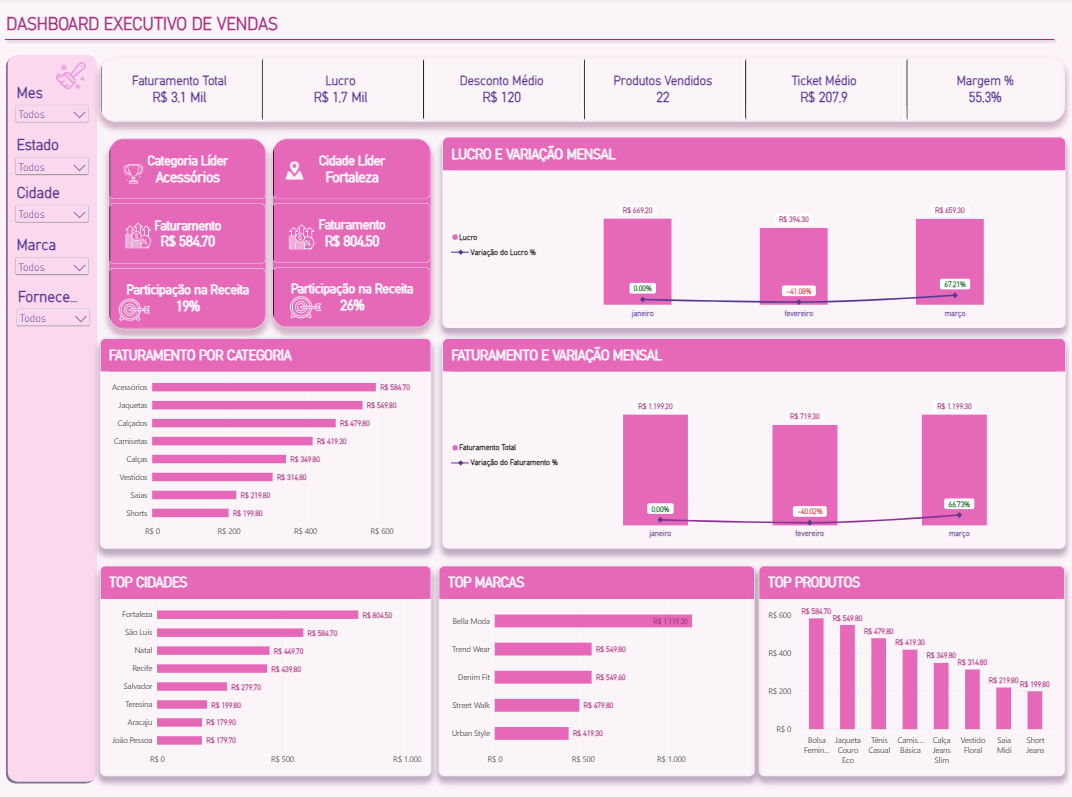

What the dashboard file says about the page in this screenshot:
{"tool":"powerbi","page":{"name":"REPORT DIRT","canvas":[2000,1500],"ordinal":0},"visuals":[{"type":"shape","box":[9.3,102,176.3,1359],"z":0},{"type":"clusteredColumnChart","title":"TOP PRODUTOS","fields":{"Category":["Produtos.Produto"],"Y":["Vendas.Faturamento Total"]},"box":[1408,1056,568,390],"z":0,"group":"g1"},{"type":"textbox","box":[10.9,30.8,1874.8,48.9],"z":1000},{"type":"cardVisual","fields":{"Data":["Vendas.Categoria Líder","Vendas.Categoria Líder Faturamento","Vendas.Categoria Líder % Participação"]},"box":[202.1,261.7,292,354],"z":1000,"group":"g2"},{"type":"shape","box":[0,47.5,1965,65],"z":2000},{"type":"slicer","fields":{"Values":["Vendas.Mes"]},"box":[22.2,159.3,146.7,118.3],"z":3000},{"type":"cardVisual","fields":{"Data":["Vendas.Cidade Líder","Vendas.Cidade Líder Faturamento","Vendas.Cidade Líder % Participação"]},"box":[506.4,261.7,294,352],"z":3000,"group":"g3"},{"type":"cardVisual","fields":{"Data":["Vendas.Receita Líquida Total","Vendas.Lucro","Vendas.Desconto Aplicado","Vendas.Quant. de Produtos Vendidos","Vendas.Ticket Médio","Vendas.Margem %"]},"box":[186,112,1790,120],"z":4000},{"type":"lineClusteredColumnComboChart","title":"LUCRO E VARIAÇÃO MENSAL","fields":{"Category":["Calendario.Mes"],"Y":["Vendas.Lucro"],"Y2":["Vendas.Variação do Lucro %"]},"box":[820,260,1156,354],"z":5000},{"type":"lineClusteredColumnComboChart","title":"FATURAMENTO E VARIAÇÃO MENSAL","fields":{"Category":["Calendario.Mes"],"Y":["Vendas.Faturamento Total"],"Y2":["Vendas.Variação Faturamento %"]},"box":[820,632,1156,390],"z":6000},{"type":"image","box":[95,117.5,73.3,55],"z":7000},{"type":"slicer","fields":{"Values":["Clientes.Estado"]},"box":[22.2,257.4,146.7,118.3],"z":8000},{"type":"slicer","fields":{"Values":["Clientes.Cidade"]},"box":[22.2,344.4,146.7,118.3],"z":9000},{"type":"clusteredBarChart","title":"FATURAMENTO POR CATEGORIA","fields":{"Category":["Produtos.Categoria"],"Y":["Vendas.Faturamento Total"]},"box":[186,632,614,390],"z":10000},{"type":"barChart","title":"TOP MARCAS","fields":{"Category":["Produtos.Marca"],"Y":["Vendas.Faturamento Total"]},"box":[814,1056,586,390],"z":11000},{"type":"clusteredBarChart","title":"TOP CIDADES","fields":{"Category":["Clientes.Cidade"],"Y":["Vendas.Faturamento Total"]},"box":[186,1056,614,390],"z":12000},{"type":"group","id":"g1","title":"Grupo 1","box":[1408,1056,568,390],"z":13000},{"type":"group","id":"g2","title":"Grupo 2","box":[202.1,261.7,292,354],"z":14000},{"type":"group","id":"g3","title":"Grupo 3","box":[506.4,261.7,294,352],"z":15000},{"type":"slicer","fields":{"Values":["Produtos.Marca"]},"box":[24,444,146.7,118.3],"z":16000},{"type":"image","box":[521.3,302.1,53.2,40.4],"z":17000,"group":"g3"},{"type":"slicer","fields":{"Values":["Estoque.Fornecedor"]},"box":[26,538,146.7,118.3],"z":17000},{"type":"image","box":[229.8,302.1,36.2,53],"z":18000,"group":"g2"},{"type":"image","box":[231.9,408.5,48.9,68.1],"z":20000},{"type":"image","box":[536.2,410.6,48,68],"z":20000,"group":"g3"},{"type":"image","box":[221.2,544.7,57.4,70.2],"z":21000,"group":"g2"},{"type":"image","box":[538.3,540.4,57.4,70.2],"z":22000,"group":"g3"}]}

Visuals, with their boxes in screenshot pixels (x1, y1, x2, y2), scaled from the page's 2000x1500 canvas onto the 1072x797 screenshot:
shape: <box>5,54,99,776</box>
"TOP PRODUTOS" clusteredColumnChart: <box>755,561,1059,768</box>
textbox: <box>6,16,1011,42</box>
cardVisual - Vendas.Categoria Líder x Vendas.Categoria Líder Faturamento: <box>108,139,265,327</box>
shape: <box>0,25,1053,60</box>
slicer - Vendas.Mes: <box>12,85,91,147</box>
cardVisual - Vendas.Cidade Líder x Vendas.Cidade Líder Faturamento: <box>271,139,429,326</box>
cardVisual - Vendas.Receita Líquida Total x Vendas.Lucro: <box>100,60,1059,123</box>
"LUCRO E VARIAÇÃO MENSAL" lineClusteredColumnComboChart: <box>440,138,1059,326</box>
"FATURAMENTO E VARIAÇÃO MENSAL" lineClusteredColumnComboChart: <box>440,336,1059,543</box>
image: <box>51,62,90,92</box>
slicer - Clientes.Estado: <box>12,137,91,200</box>
slicer - Clientes.Cidade: <box>12,183,91,246</box>
"FATURAMENTO POR CATEGORIA" clusteredBarChart: <box>100,336,429,543</box>
"TOP MARCAS" barChart: <box>436,561,750,768</box>
"TOP CIDADES" clusteredBarChart: <box>100,561,429,768</box>
"Grupo 1" group: <box>755,561,1059,768</box>
"Grupo 2" group: <box>108,139,265,327</box>
"Grupo 3" group: <box>271,139,429,326</box>
slicer - Produtos.Marca: <box>13,236,91,299</box>
image: <box>279,161,308,182</box>
slicer - Estoque.Fornecedor: <box>14,286,93,349</box>
image: <box>123,161,143,189</box>
image: <box>124,217,151,253</box>
image: <box>287,218,313,254</box>
image: <box>119,289,149,327</box>
image: <box>289,287,319,324</box>
